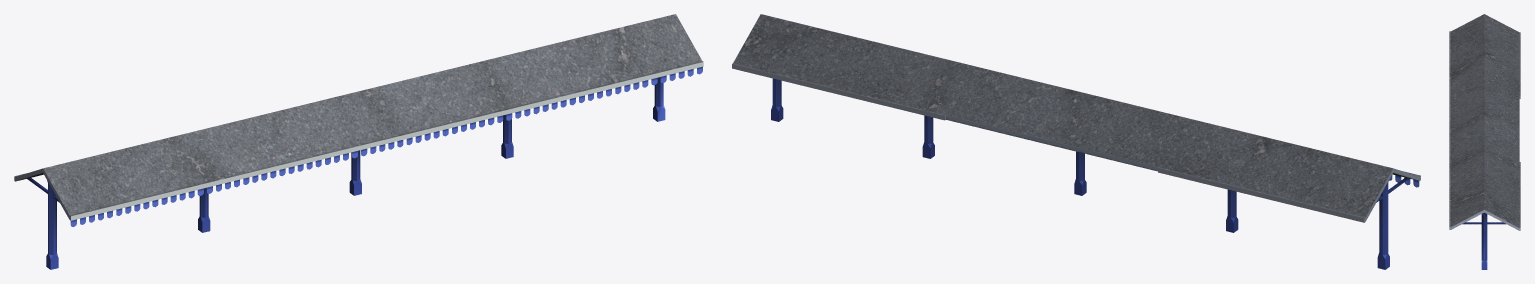
File: station_roof.gltf
3 views of the same model, side by side, from view 1: azimuth 30°, elevation 25°; view 2: azimuth 150°, elevation 25°; view 3: azimuth 270°, elevation 25° (orthographic). The views are drawn at different scales.
Parts seen in each view (by area): view 1: Cube.042; view 2: Cube.042; view 3: Cube.042.
Part boxes in pixels (x1=…): Cube.042: x1=14, y1=14, x2=703, y2=269; Cube.042: x1=732, y1=14, x2=1420, y2=269; Cube.042: x1=1449, y1=14, x2=1520, y2=269.
Bounding box in the file's own units: 9.15 × 1.4 × 1.42.
Materials: 1 (1 with a texture image).
